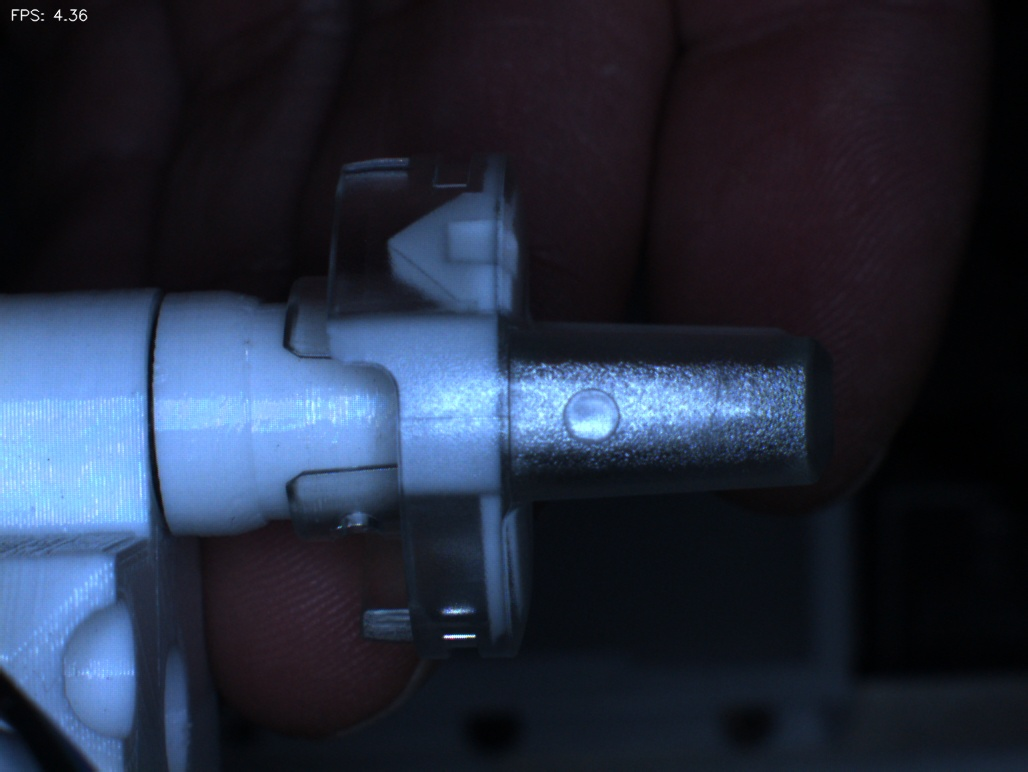DentOk: (364, 218, 438, 305)
